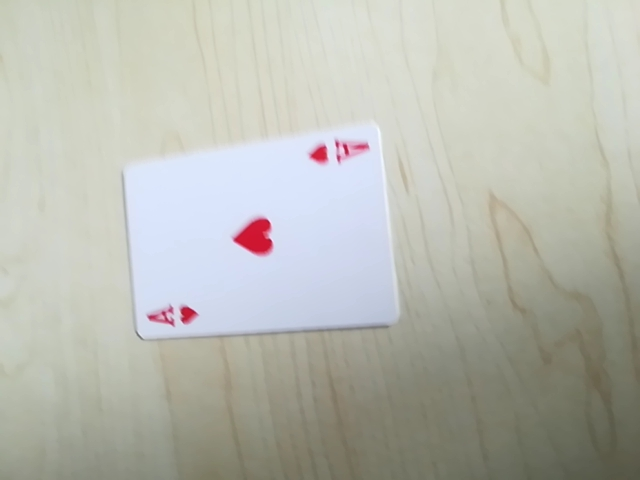hx a: (301, 129, 374, 174), (141, 295, 204, 334)
